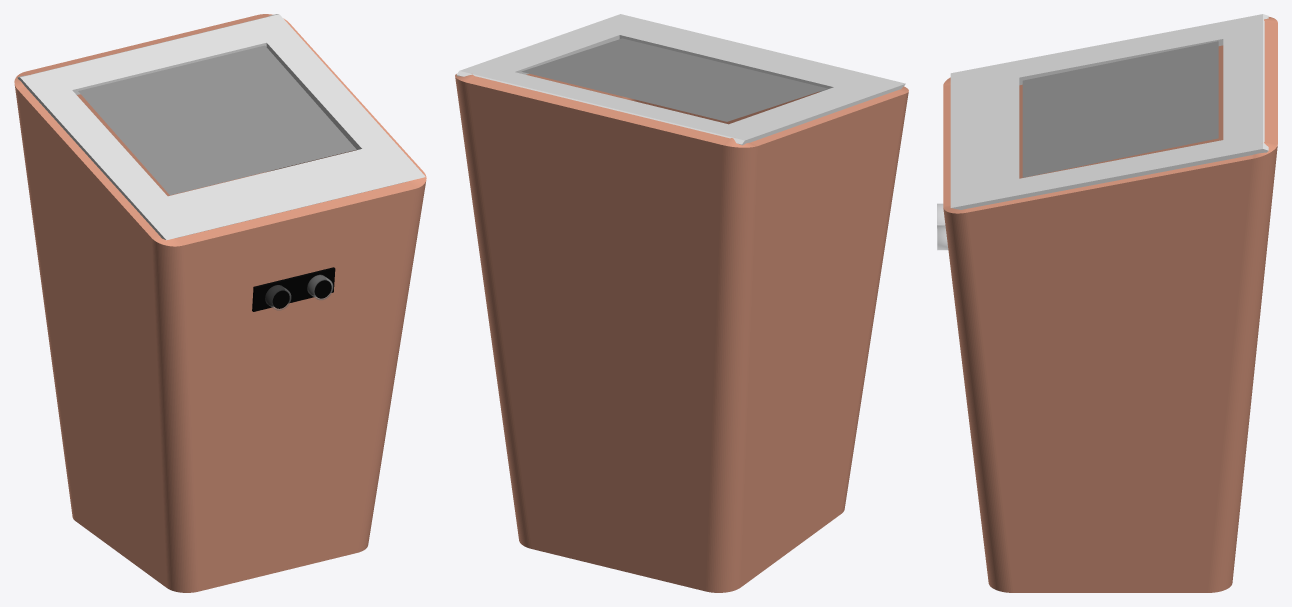
The model's file is smartDustbinRemake (1).glb.
3 renders of one model, left to right at view 1: azimuth 30°, elevation 25°; view 2: azimuth 150°, elevation 25°; view 3: azimuth 270°, elevation 25°, orthographic. The views are drawn at different scales.
Visible parts, largest first — view 1: Cube, Plane.001, Plane.002, Plane; view 2: Cube, Plane.001, Plane.002; view 3: Cube, Plane.001, Plane.002.
Part boxes in pixels (x1=…): Cube: x1=14, y1=14, x2=426, y2=592; Plane.001: x1=17, y1=14, x2=425, y2=240; Plane.002: x1=78, y1=45, x2=356, y2=195; Plane: x1=252, y1=267, x2=335, y2=311; Cube: x1=455, y1=73, x2=908, y2=592; Plane.001: x1=456, y1=14, x2=905, y2=145; Plane.002: x1=521, y1=38, x2=827, y2=121; Cube: x1=943, y1=17, x2=1277, y2=592; Plane.001: x1=950, y1=14, x2=1268, y2=209; Plane.002: x1=1022, y1=41, x2=1218, y2=177.
Bounding box in the file's own units: 2 × 3.04 × 2.04.
